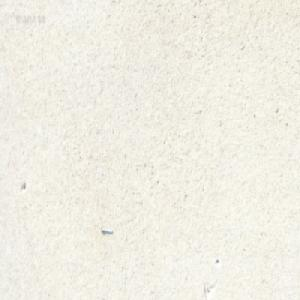Nail: (99, 224, 114, 234)
